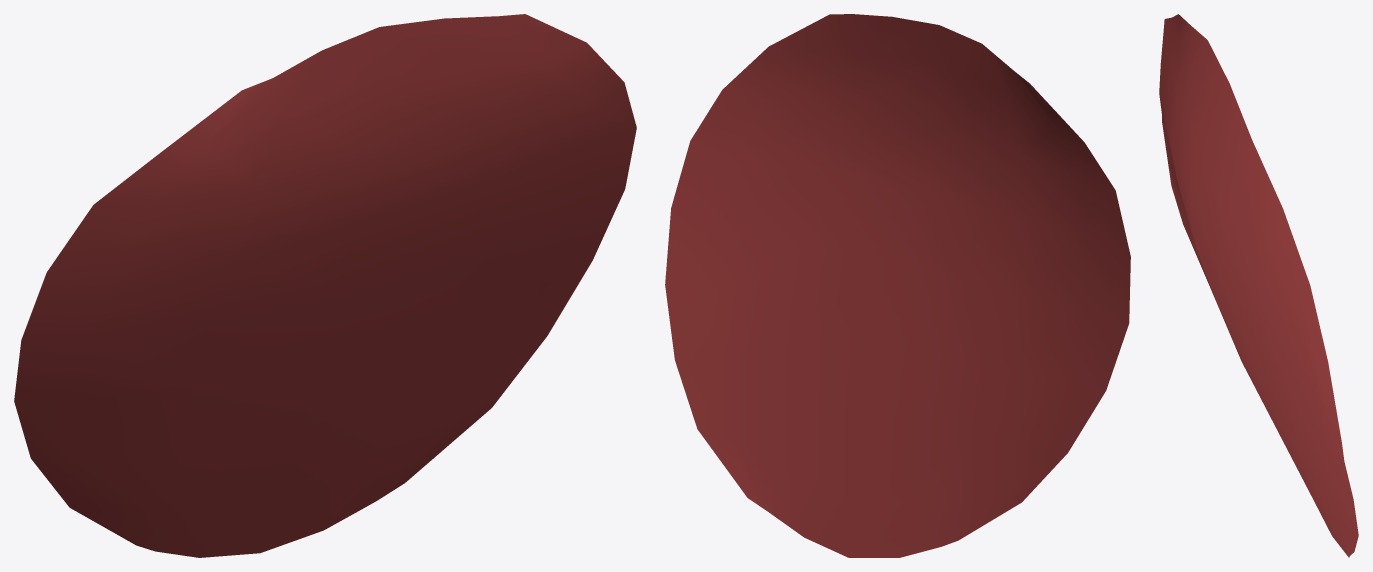
Rendered from subtendinous-prepatellar-bursa-l.glb.
3 renders of one model, left to right at view 1: azimuth 30°, elevation 25°; view 2: azimuth 150°, elevation 25°; view 3: azimuth 270°, elevation 25°, orthographic. The views are drawn at different scales.
Parts seen in each view (by area): view 1: Subtendinous prepatellar bursa.l; view 2: Subtendinous prepatellar bursa.l; view 3: Subtendinous prepatellar bursa.l.
Part boxes in pixels (x1,y1,x2,y2): Subtendinous prepatellar bursa.l: (14, 14, 636, 557); Subtendinous prepatellar bursa.l: (665, 14, 1130, 557); Subtendinous prepatellar bursa.l: (1159, 14, 1358, 557).
Size of the model in its own units: 0.0251 by 0.0244 by 0.00879.
